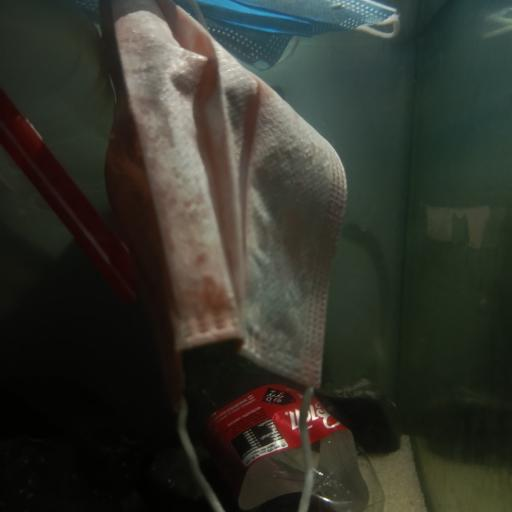mask: (99, 4, 346, 404), (177, 0, 403, 71)
plastic_bottle: (190, 352, 379, 512)
plastic_straw: (0, 89, 135, 305)
